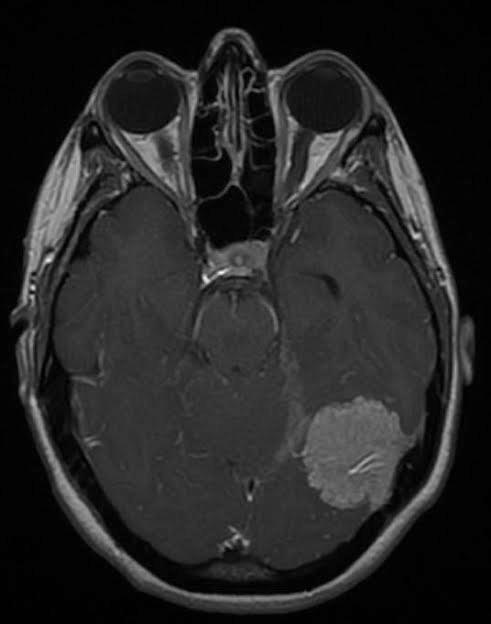Tumour-Meningioma: (294, 379, 419, 531)
